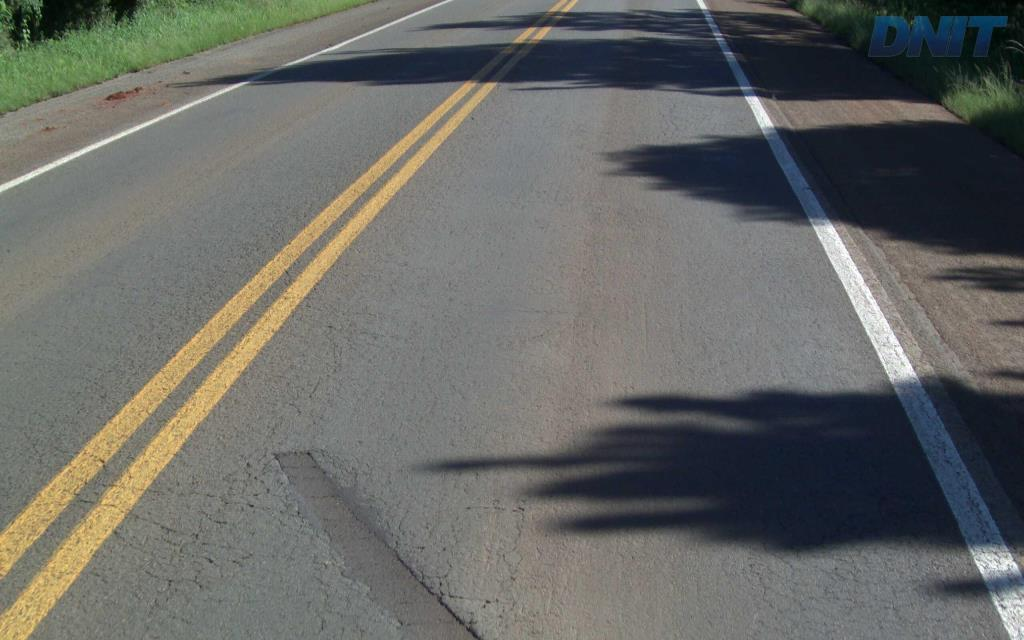pothole: (270, 441, 491, 638)
